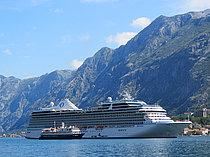Ship: (21, 86, 196, 143)
